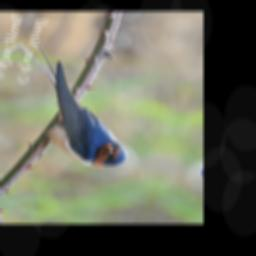Swallow: (0, 38, 159, 172)
